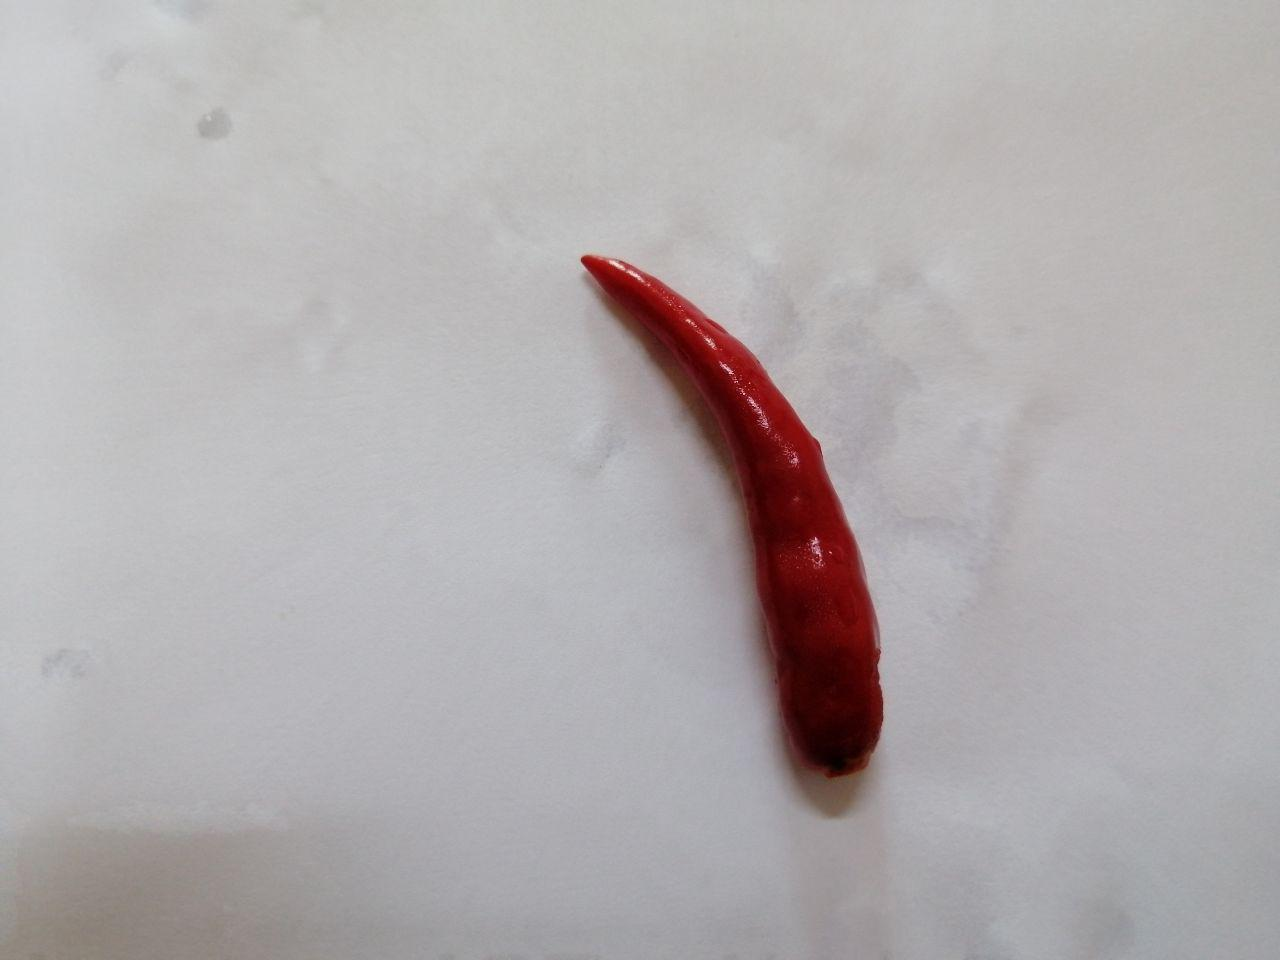lada merah: (560, 240, 925, 800)
